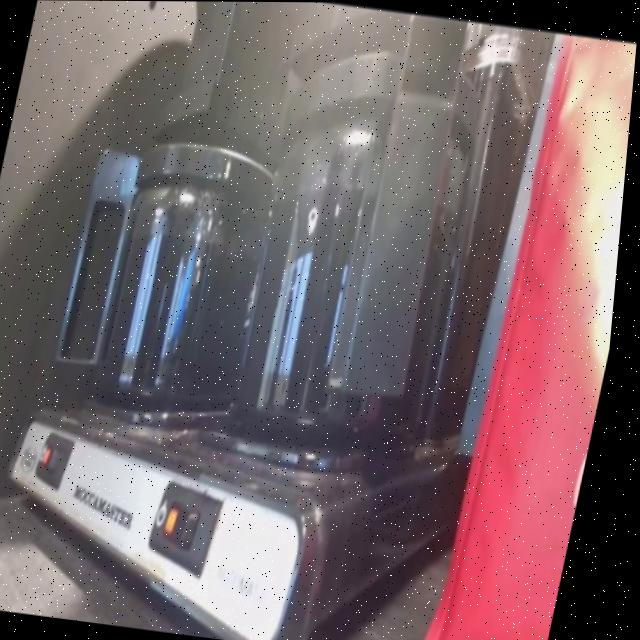coffee: (233, 164, 470, 450), (100, 196, 276, 407)
